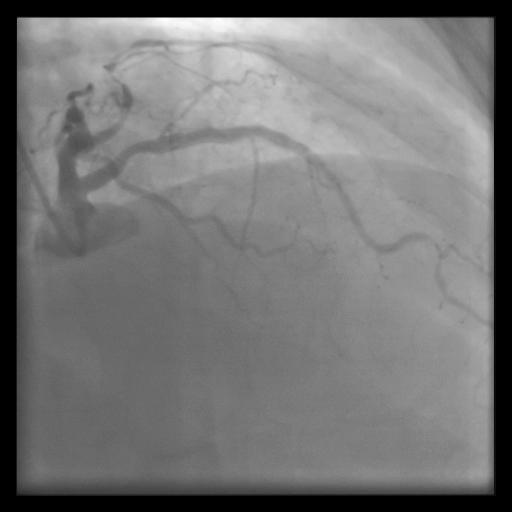Stenosis: (114, 141, 158, 158)
